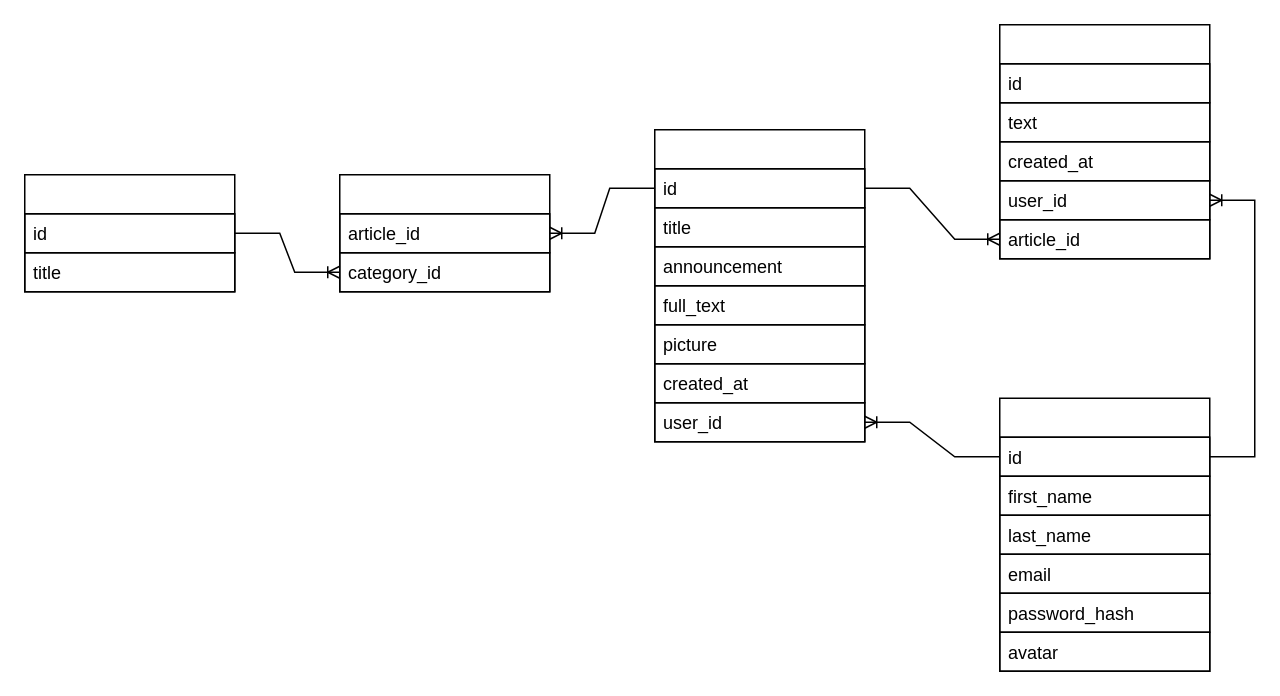
The diagram is 1280 pixels wide and 696 high, and some of its shapes have lost their labels. The shapes that lost their labels are listed below. From the top down, each one's box as (x1, y1, x2, y2) in pixels, then its label:
(998, 23, 1210, 259): comments
(23, 173, 235, 292): categories
(338, 173, 550, 292): articles_categories
(653, 128, 865, 442): articles
(998, 397, 1210, 671): users
